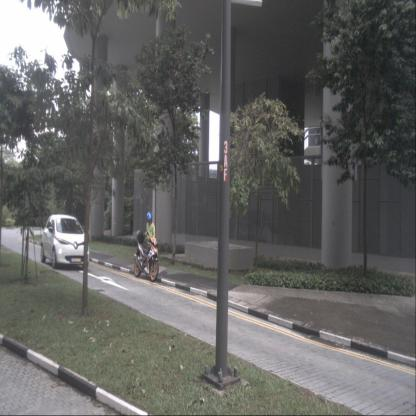human-pedestrian-adult: (145, 211, 157, 276)
vehicle-car: (40, 214, 90, 270)
vehicle-motorcycle: (134, 230, 159, 282)
